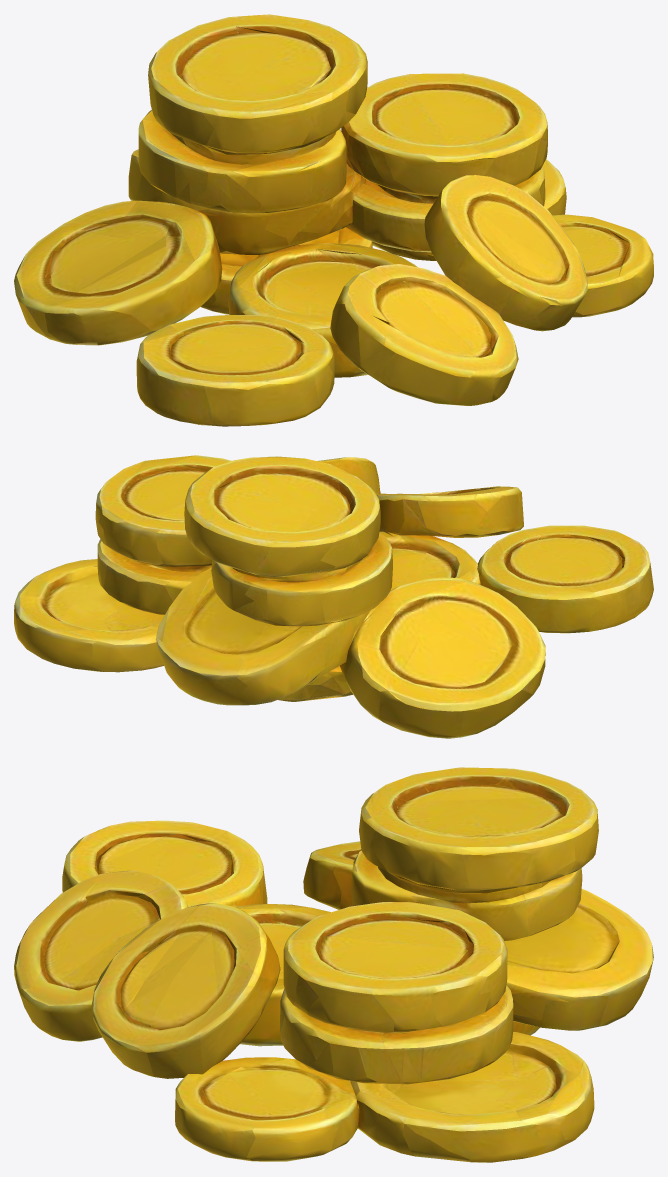
Rendered from coinpile.glb.
The picture shows the model from 3 angles, top to bottom: view 1: azimuth 30°, elevation 25°; view 2: azimuth 150°, elevation 25°; view 3: azimuth 270°, elevation 25°; orthographic projection. The views are drawn at different scales.
Bounding box in the file's own units: 1.9 × 0.7153 × 1.82.
1 material, 1 textured.
